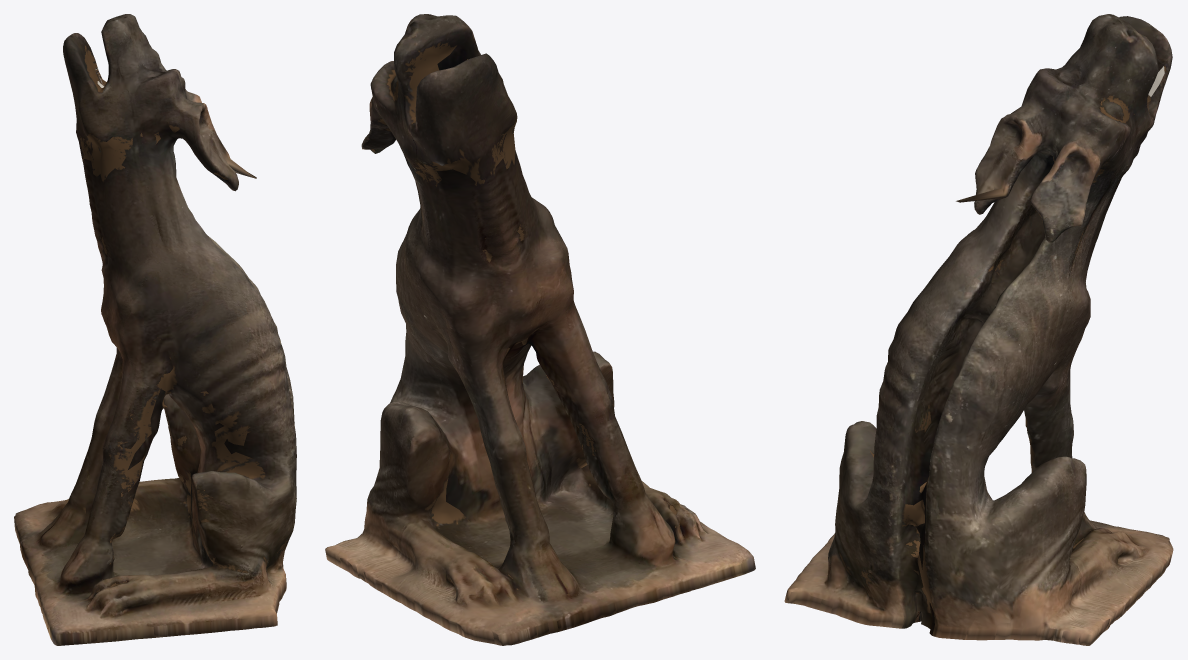
Rendered from 06_monster-dog.gltf.
The picture shows the model from 3 angles, left to right: view 1: azimuth 30°, elevation 25°; view 2: azimuth 150°, elevation 25°; view 3: azimuth 270°, elevation 25°; orthographic projection. The views are drawn at different scales.
Parts seen in each view (by area): view 1: Mesh_0; view 2: Mesh_0; view 3: Mesh_0.
Part boxes in pixels (x1,y1,x2,y2): Mesh_0: (14,14,296,645); Mesh_0: (325,14,755,645); Mesh_0: (784,14,1173,645).
Size of the model in its own units: 1.47 by 2.62 by 1.59.
4 materials, 4 textured.
